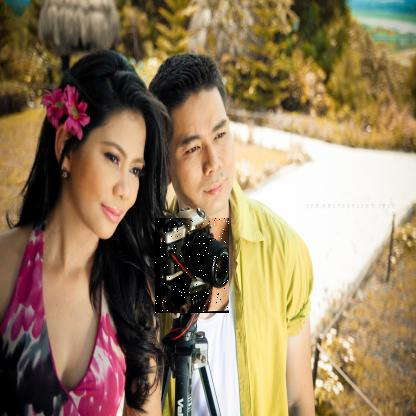Camera: (156, 220, 231, 316)
